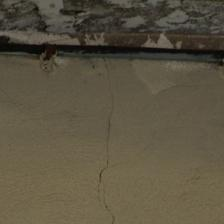Crack: (46, 27, 77, 191)
